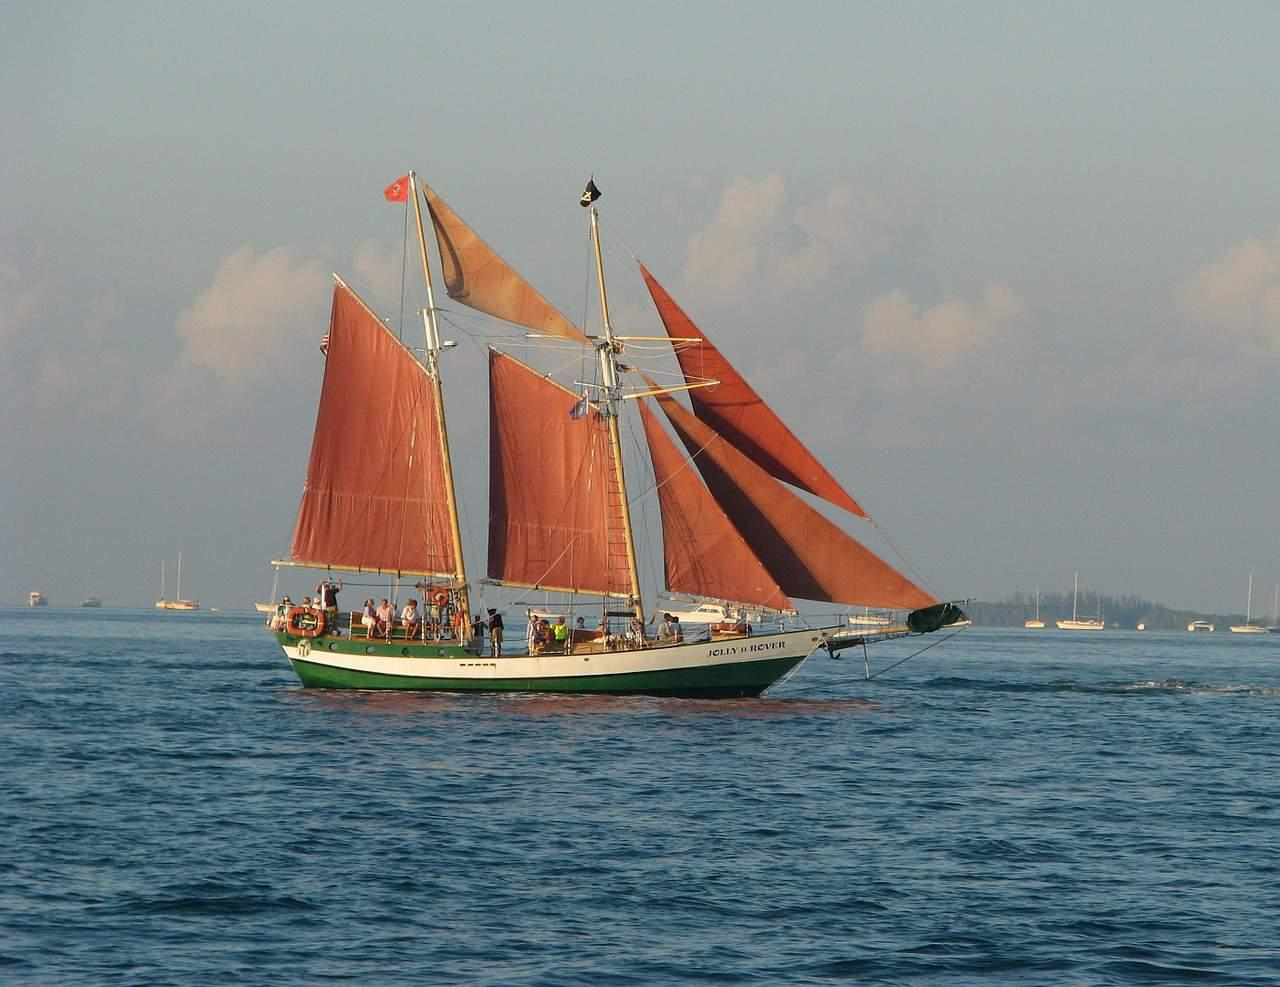Ship: (274, 170, 976, 701)
